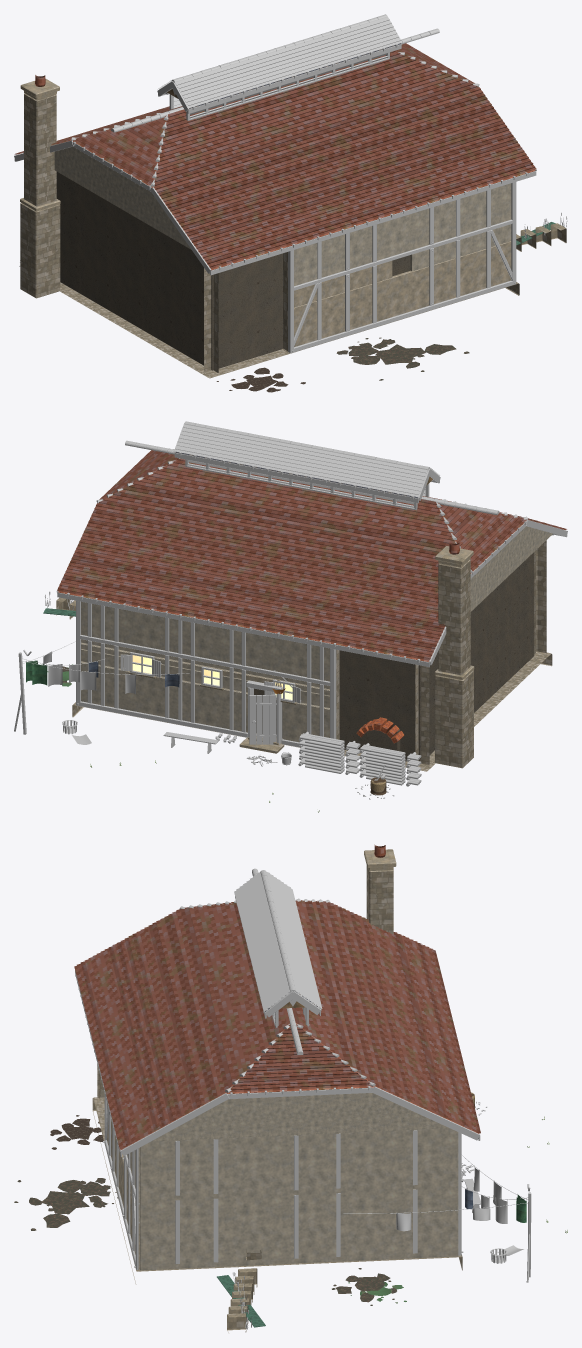
File: bathhouse.gltf
3 renders of one model, top to bottom at view 1: azimuth 30°, elevation 25°; view 2: azimuth 150°, elevation 25°; view 3: azimuth 270°, elevation 25°, orthographic. The views are drawn at different scales.
Parts seen in each view (by area): view 1: bathhouse#n1_n1, bathhouse#0_0, bathhouse#0_n1, bathhouse#n1_0; view 2: bathhouse#n1_n1, bathhouse#0_0, bathhouse#0_n1, bathhouse#n1_0; view 3: bathhouse#n1_n1, bathhouse#0_0, bathhouse#0_n1, bathhouse#n1_0.
Part boxes in pixels (box(x1,y1,x2,y2)): bathhouse#n1_n1: box(14, 43, 536, 270); bathhouse#0_0: box(54, 14, 567, 380); bathhouse#0_n1: box(14, 17, 566, 353); bathhouse#n1_0: box(20, 93, 519, 392); bathhouse#n1_n1: box(14, 450, 566, 812); bathhouse#0_0: box(43, 421, 552, 761); bathhouse#0_n1: box(23, 423, 567, 799); bathhouse#n1_0: box(72, 540, 552, 771); bathhouse#n1_n1: box(74, 844, 567, 1282); bathhouse#0_0: box(14, 868, 458, 1329); bathhouse#0_n1: box(75, 872, 528, 1332); bathhouse#n1_0: box(50, 866, 462, 1284).
Bounding box in the file's own units: 20.65 × 10.03 × 19.05.
